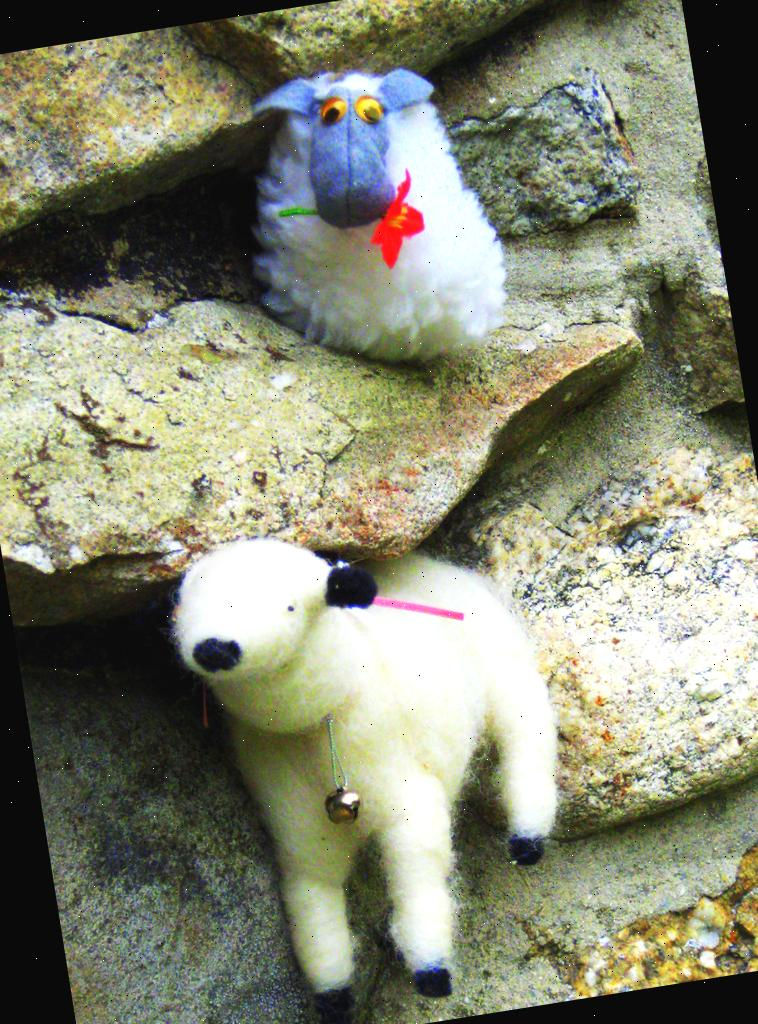Sheep: (127, 463, 615, 1024), (196, 20, 520, 388)
